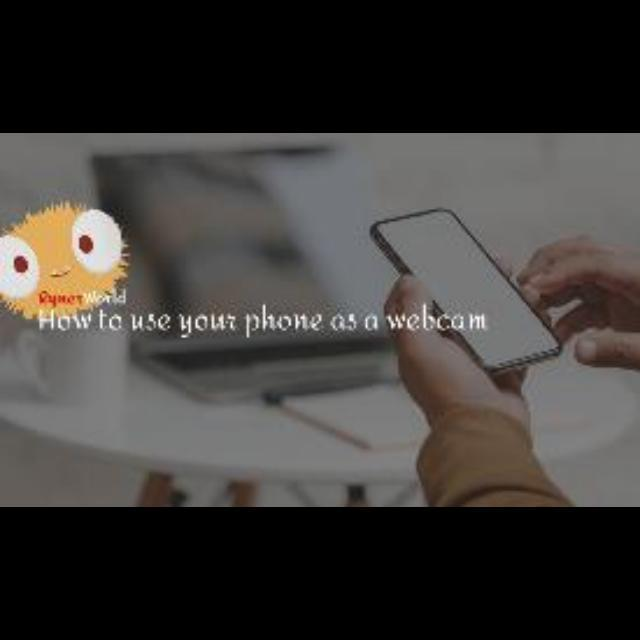PhoneUse: (370, 200, 556, 382)
